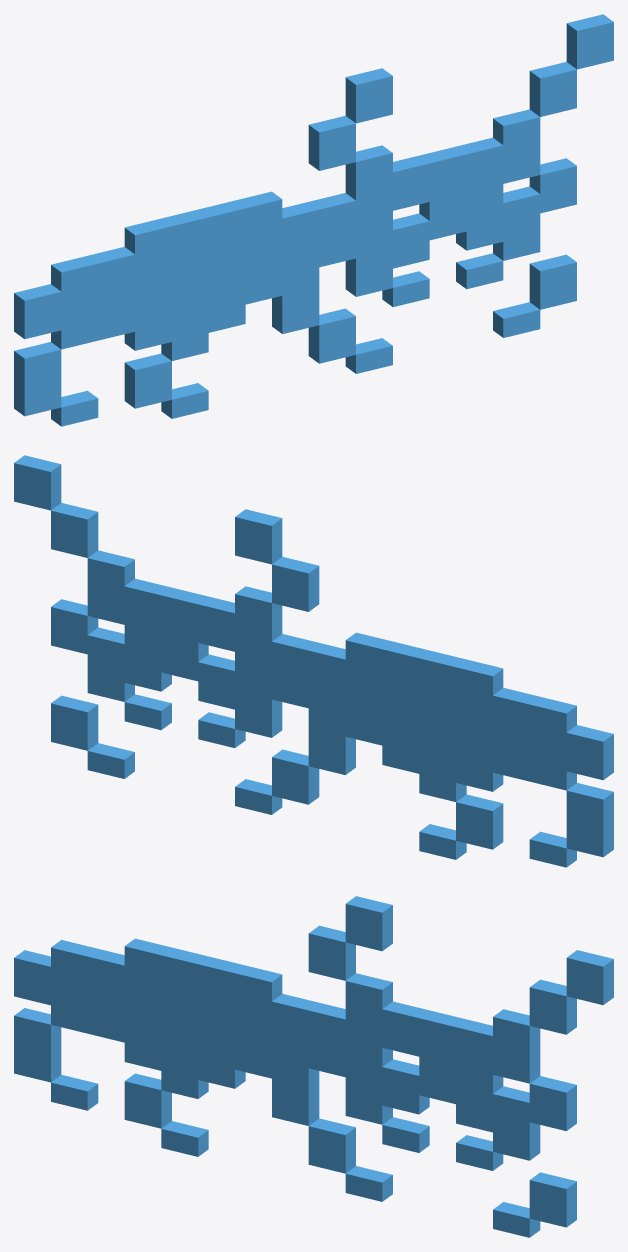
Rendered from Ant-Blue.vox.obj.
The picture shows the model from 3 angles, top to bottom: view 1: azimuth 30°, elevation 25°; view 2: azimuth 150°, elevation 25°; view 3: azimuth 330°, elevation 25°; orthographic projection.
Size of the model in its own units: 3.2 by 1.5 by 0.1.
1 material, 1 textured.
